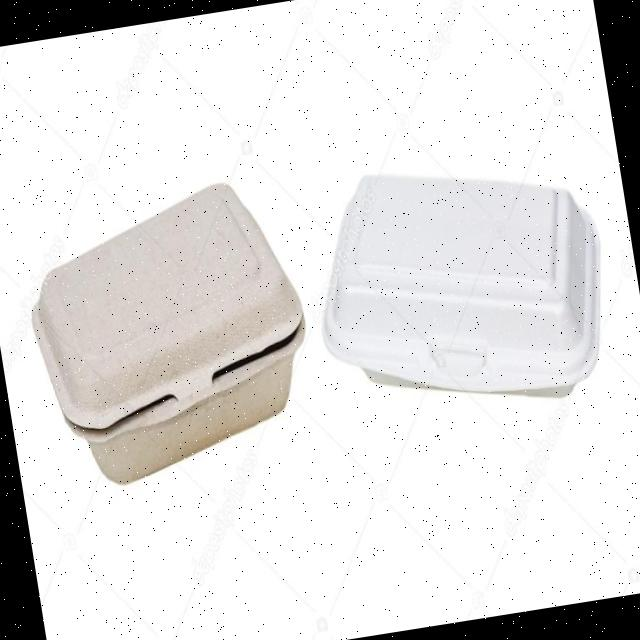styrofoam: (13, 170, 326, 496), (298, 136, 622, 432)
